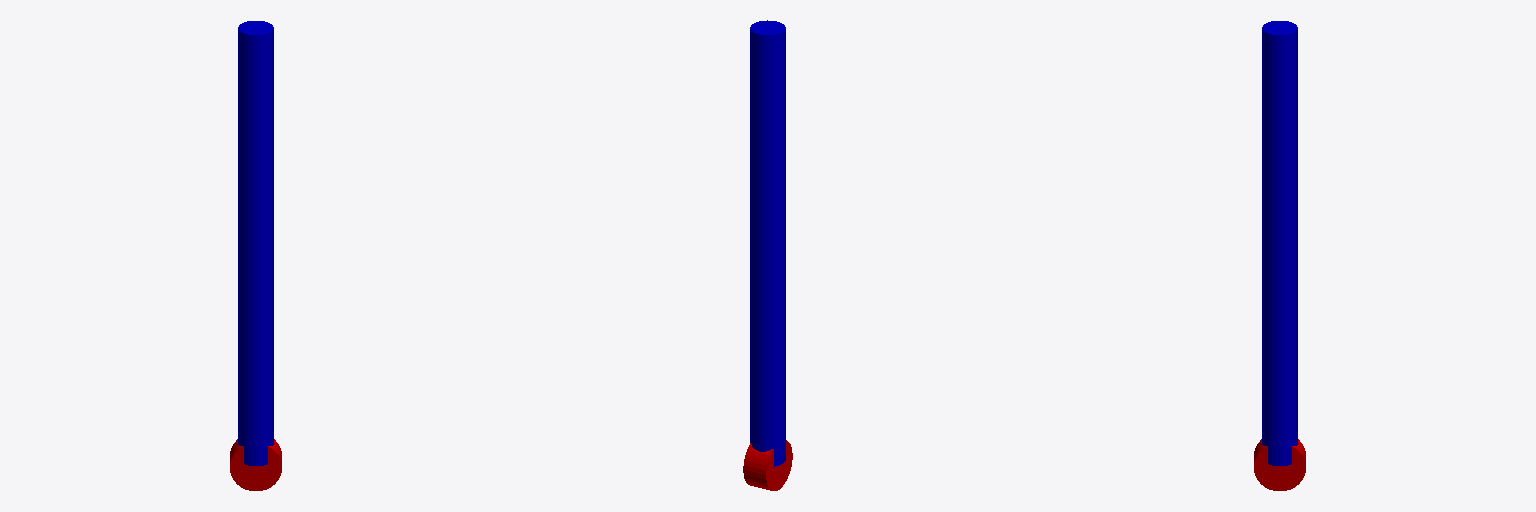
URDF robot description (InvertedPendulum):
<robot name="InvertedPendulum">
  <link name="InvertedPendulumBase">
    <inertial>
      <origin xyz="0 0 0"/>
      <mass value="1.0"/>
      <inertia ixx="0.0" ixy="0.0" ixz="0.0" iyy="0.0" iyz="0.0" izz="0.0"/>
    </inertial>
    <visual>
      <origin rpy="0 1.57 0" xyz="0 0 0"/>
      <geometry>
        <cylinder length="0.015" radius="0.015"/>
      </geometry>
      <material name="red">
        <color rgba="0.8 0 0 1"/>
      </material>
    </visual>
  </link>
  <link name="Link1">
    <inertial>
      <origin xyz="0.0 0.0 0.137"/>
      <mass value="1.811"/>
      <inertia ixx="0.009055" ixy="0.0" ixz="0.0" iyy="0.00047" iyz="0.0" izz="0.00047"/>
    </inertial>
    <visual>
      <origin rpy="0 0 0" xyz="0 0 0.137"/>
      <geometry>
          <cylinder length="0.27" radius="0.01"/>
      </geometry>
      <material name="blue">
          <color rgba="0 0 .8 1"/>
      </material>
    </visual>
  </link>
  <joint name="Joint1" type="revolute">
    <origin rpy="0 0 0" xyz="0 0 0"/>
    <parent link="InvertedPendulumBase"/>
    <child link="Link1"/>
    <axis xyz="1 0 0"/>
    <limit effort="150.0" lower="-3.1416" upper="3.1416" velocity="12.0"/>
  </joint>
</robot>

--- Facts derived from the render (not from the file) ---
3 views of the same robot in one strip: view 1: azimuth 90°, elevation 25°; view 2: azimuth 150°, elevation 25°; view 3: azimuth 270°, elevation 25° (orthographic).
Robot: InvertedPendulum — 2 links, 1 joints (1 revolute); root link InvertedPendulumBase; default pose: every joint at zero.
Links seen in each view (by area): view 1: Link1, InvertedPendulumBase; view 2: Link1, InvertedPendulumBase; view 3: Link1, InvertedPendulumBase.
Boxes of the visible links, x1,y1,x2,y2 form: Link1: (238, 21, 273, 465); InvertedPendulumBase: (230, 439, 281, 490); Link1: (750, 20, 785, 466); InvertedPendulumBase: (743, 440, 792, 490); Link1: (1262, 21, 1297, 465); InvertedPendulumBase: (1254, 439, 1305, 490).
Bounding box of the posed robot: 0.02 × 0.03 × 0.287 m (x, y, z).
Geometry: primitives only (box / cylinder / sphere), no mesh files.